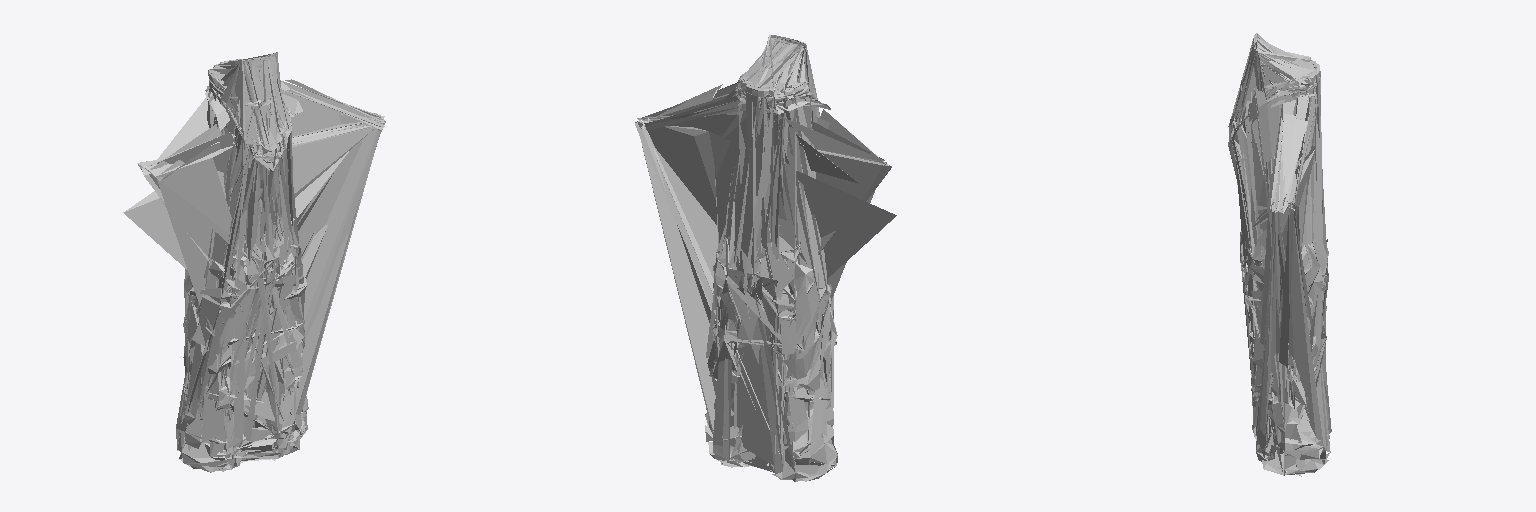
The model's file is DBXV2 - Future Trunks (DBS).obj.
3 views of the same model, side by side, from view 1: azimuth 30°, elevation 25°; view 2: azimuth 150°, elevation 25°; view 3: azimuth 270°, elevation 25° (orthographic).
Parts seen in each view (by area): view 1: Model001_5_Jacket_0.1_16_16, Model001_5_+Hair.1_0.1_16_16, Model001_5_Pants_0.1_16_16, Model001_5_Head_0.1_16_16, Model001_5_Boots1_0.1_16_16, Model001_5_Hands_0.1_16_16, Model001_5_Scarf_0.1_16_16; view 2: Model001_5_Jacket_0.1_16_16, Model001_5_Pants_0.1_16_16, Model001_5_+Hair.1_0.1_16_16, Model001_5_Boots1_0.1_16_16, Model001_5_Hands_0.1_16_16, Model001_5_Head_0.1_16_16; view 3: Model001_5_Jacket_0.1_16_16, Model001_5_Head_0.1_16_16, Model001_5_+Hair.1_0.1_16_16, Model001_5_Pants_0.1_16_16, Model001_5_Boots1_0.1_16_16, Model001_5_Hands_0.1_16_16.
Boxes of the visible parts, box(x1,y1,x2,y2) form: Model001_5_Jacket_0.1_16_16: box(123, 58, 385, 471); Model001_5_+Hair.1_0.1_16_16: box(177, 57, 308, 472); Model001_5_Pants_0.1_16_16: box(183, 55, 306, 425); Model001_5_Head_0.1_16_16: box(186, 60, 298, 393); Model001_5_Boots1_0.1_16_16: box(184, 52, 297, 311); Model001_5_Hands_0.1_16_16: box(184, 52, 291, 298); Model001_5_Scarf_0.1_16_16: box(213, 54, 289, 169); Model001_5_Jacket_0.1_16_16: box(635, 35, 896, 481); Model001_5_Pants_0.1_16_16: box(712, 38, 833, 440); Model001_5_+Hair.1_0.1_16_16: box(705, 38, 837, 481); Model001_5_Boots1_0.1_16_16: box(717, 35, 819, 343); Model001_5_Hands_0.1_16_16: box(715, 37, 825, 348); Model001_5_Head_0.1_16_16: box(713, 44, 817, 359); Model001_5_Jacket_0.1_16_16: box(1228, 39, 1331, 476); Model001_5_Head_0.1_16_16: box(1230, 37, 1328, 423); Model001_5_+Hair.1_0.1_16_16: box(1229, 36, 1329, 475); Model001_5_Pants_0.1_16_16: box(1229, 34, 1328, 431); Model001_5_Boots1_0.1_16_16: box(1230, 45, 1327, 401); Model001_5_Hands_0.1_16_16: box(1228, 43, 1328, 403).
Size of the model in its own units: 0.8136 by 1.25 by 0.2782.